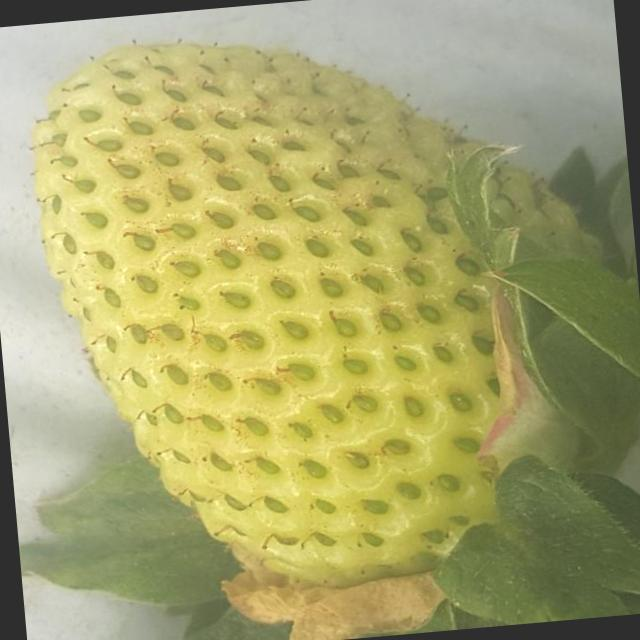Strawberry: (14, 0, 640, 635)
